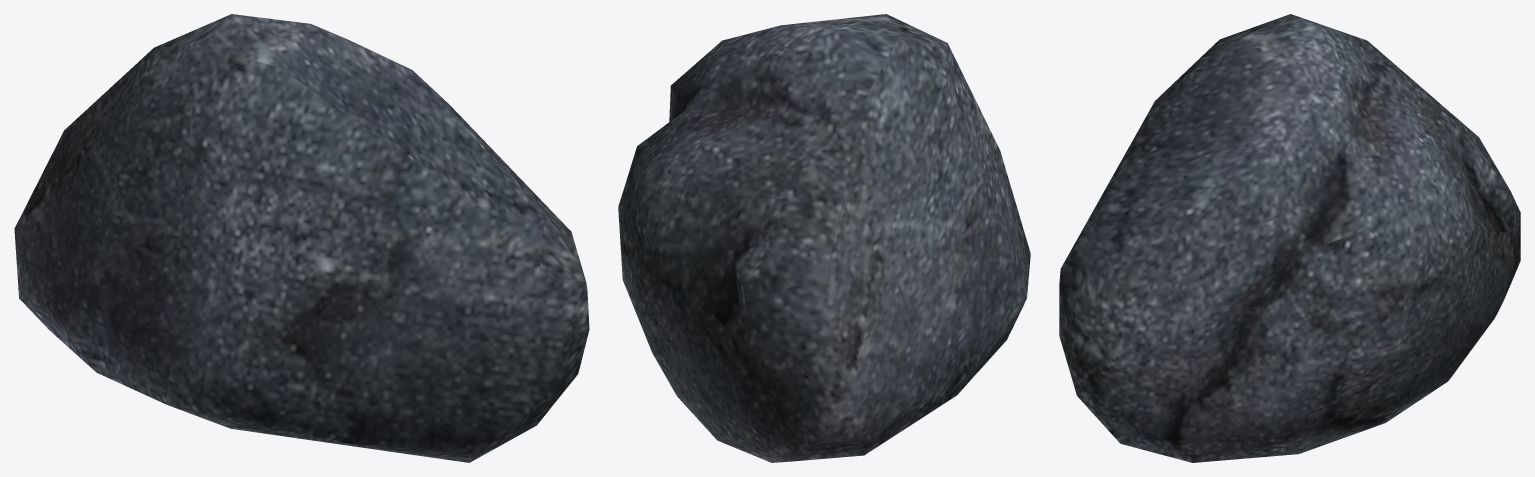
Rendered from dark-stone-high.glb.
The picture shows the model from 3 angles, left to right: view 1: azimuth 30°, elevation 25°; view 2: azimuth 150°, elevation 25°; view 3: azimuth 270°, elevation 25°; orthographic projection. The views are drawn at different scales.
Parts seen in each view (by area): view 1: dark-stone.001; view 2: dark-stone.001; view 3: dark-stone.001.
Part boxes in pixels (x1,y1,x2,y2): dark-stone.001: [14, 14, 589, 462]; dark-stone.001: [618, 14, 1030, 462]; dark-stone.001: [1059, 14, 1520, 462].
Size of the model in its own units: 0.8794 by 0.9341 by 1.06.
Materials: 1 (1 with a texture image).
